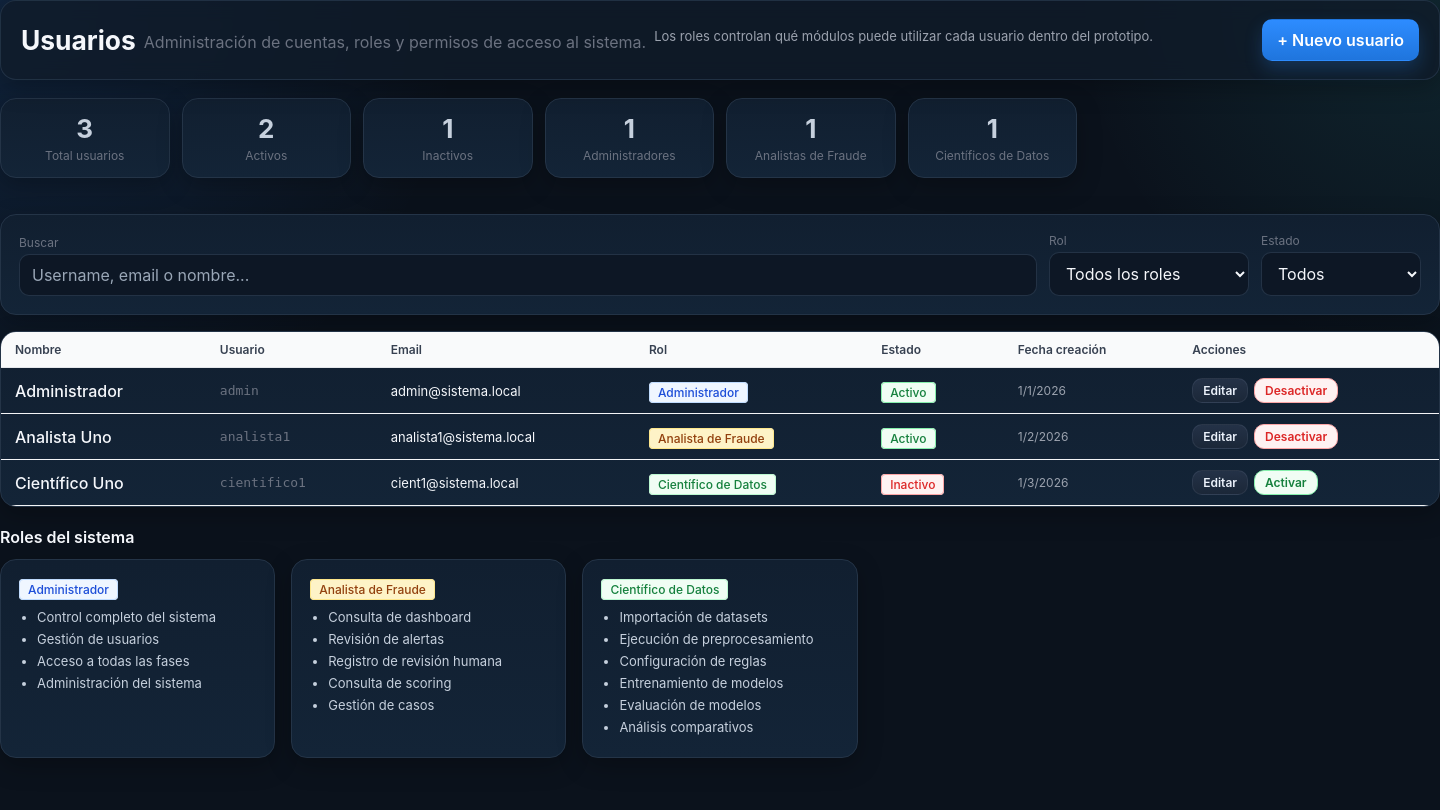
Test: Pantalla Usuarios › abre modal al hacer clic en Nuevo usuario
Expected: the text "Analista Uno" is shown, x1=1 y1=414 x2=206 y2=460
Click the button with test id "btn-nuevo-usuario" at [1341, 40], box x1=1262 y1=19 x2=1419 y2=61
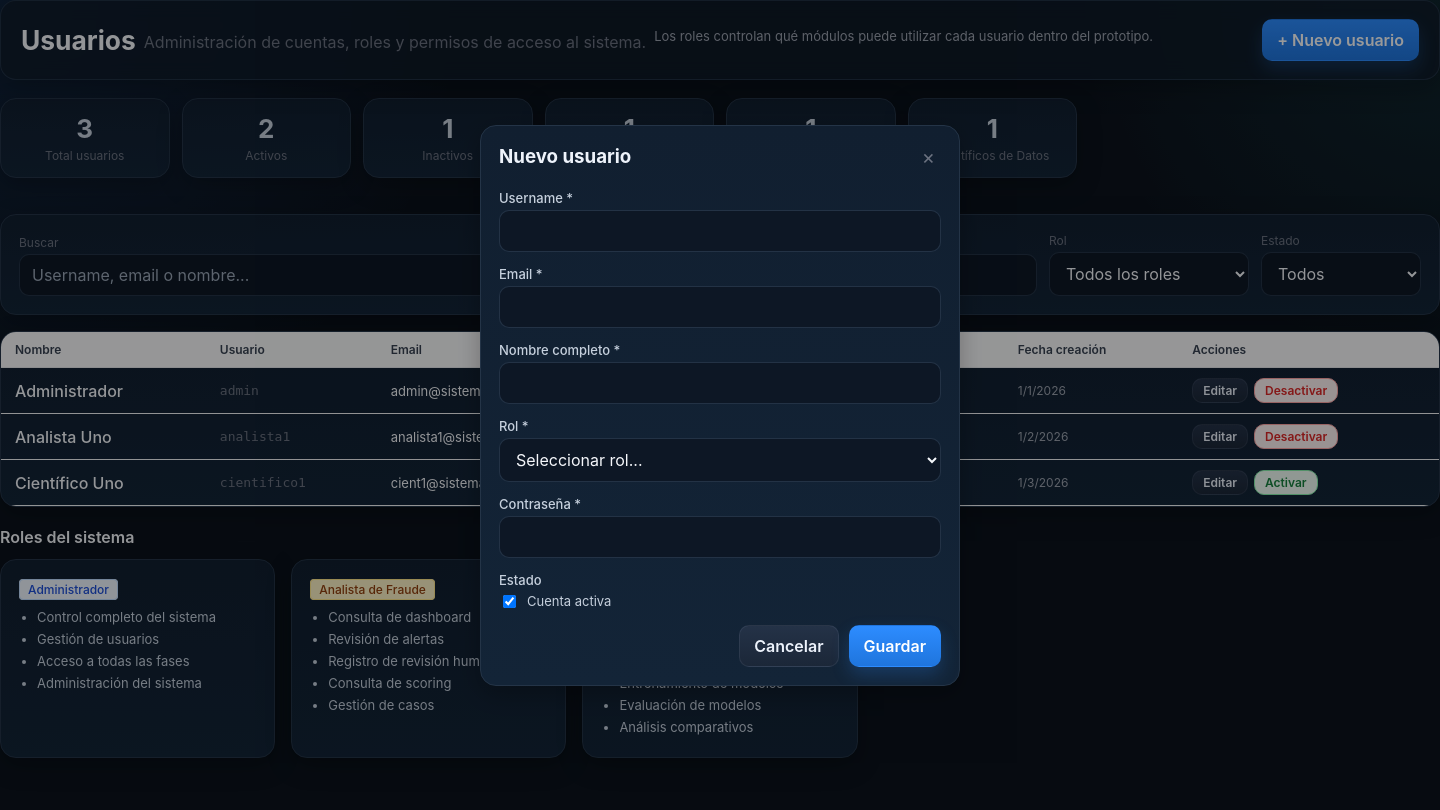
Expected: the heading "Nuevo usuario" is shown, x1=499 y1=145 x2=631 y2=168
Expected: the field with test id "input-username" is shown, x1=499 y1=210 x2=941 y2=252
Expected: the field with test id "input-email" is shown, x1=499 y1=286 x2=941 y2=328
